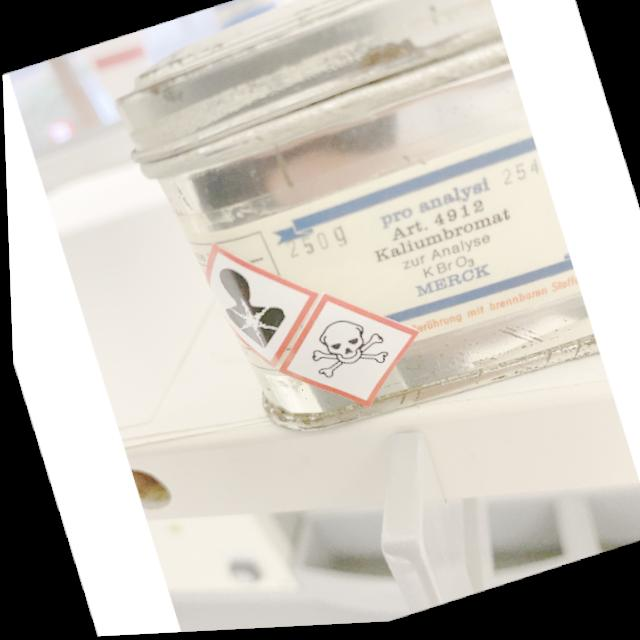acute toxicity: (299, 311, 389, 388)
serious health hazard: (210, 255, 291, 359)
